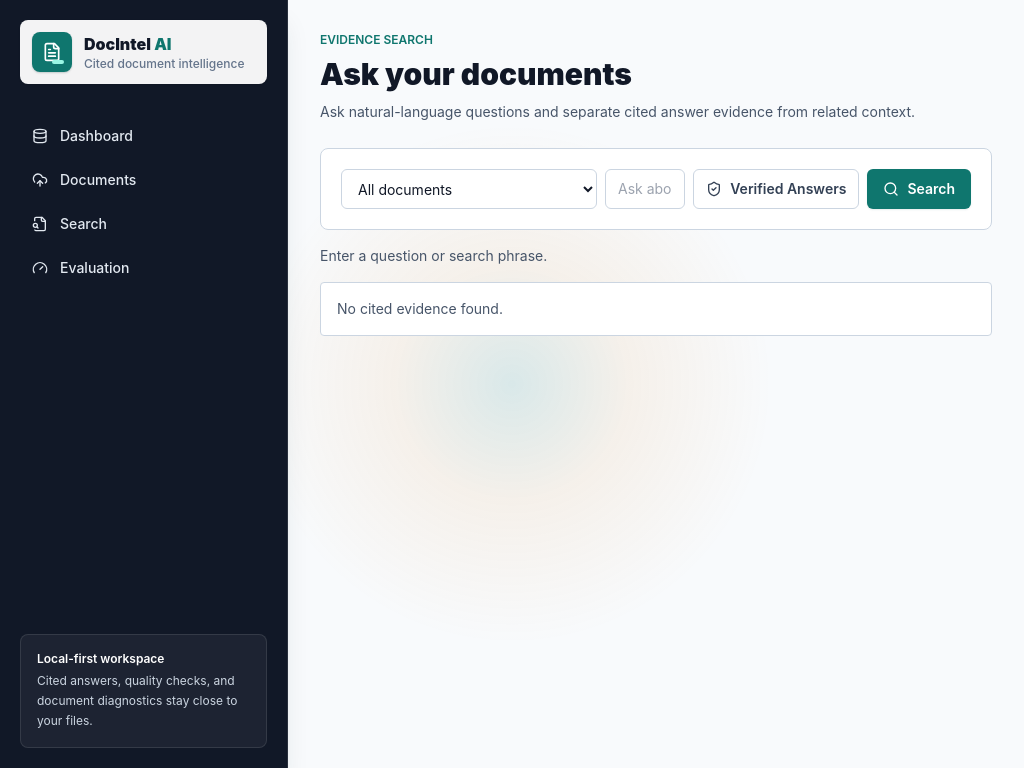
Test: SearchPage › ignores an in-flight result after the search scope changes
Select "doc-1" in the dropdown named "Search scope": (469, 189) [341,169,597,209]
In the field named "Search query": (645, 189) [605,169,685,209], type "invoice total"
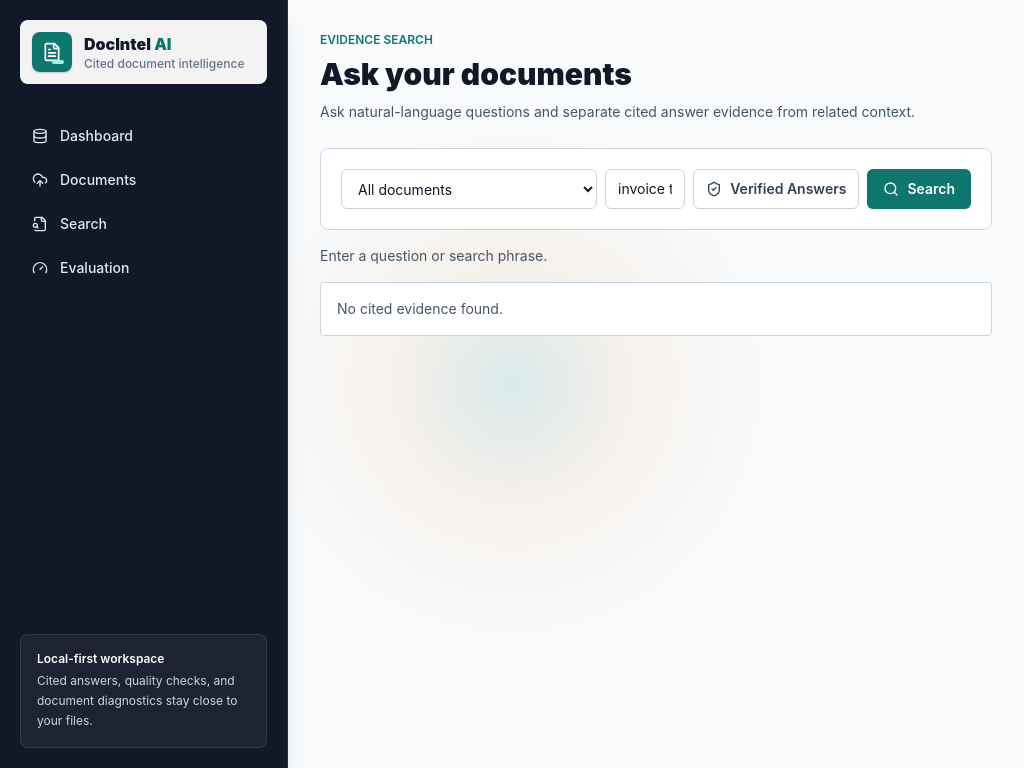
Submit the form named "Search query", box [341,169,971,209]
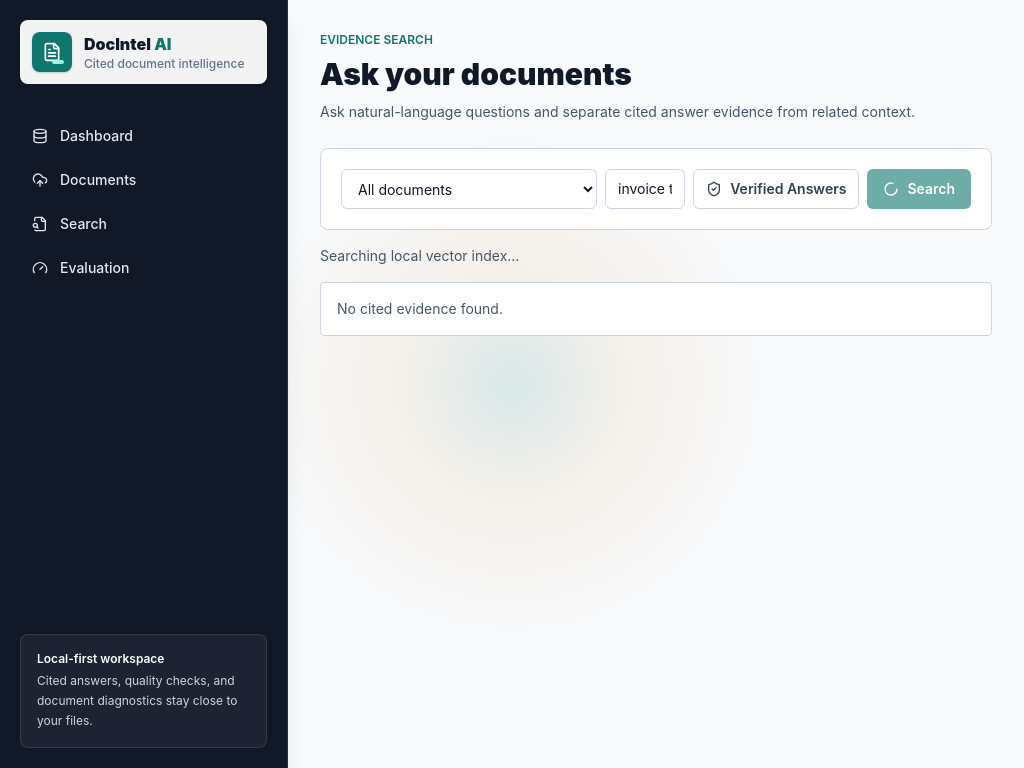
Check: the button "Search" is disabled, box [868,169,971,209]
Select "contract.pdf" in the dropdown named "Search scope": (469, 189) [341,169,597,209]
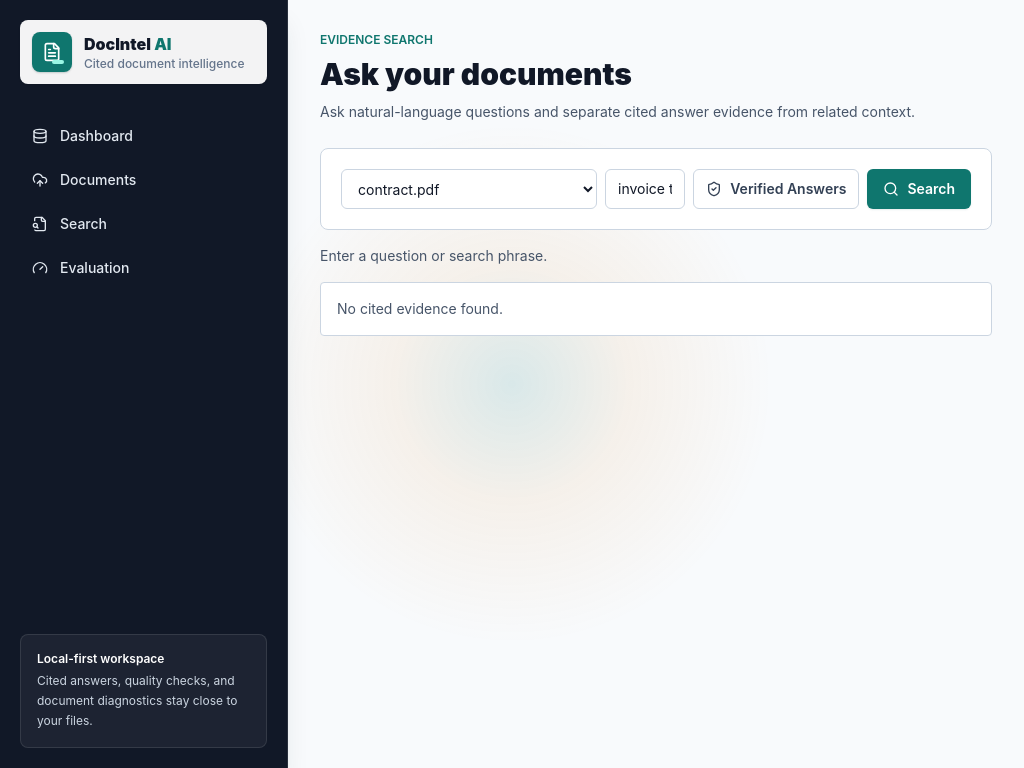
Check: the button "Search" is enabled, box [868,169,971,209]
